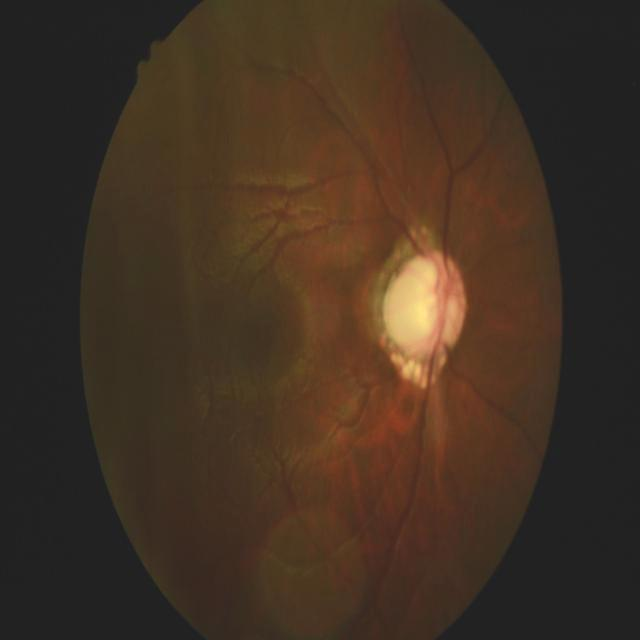cup: (387, 259, 459, 349)
disk: (383, 250, 468, 360)
